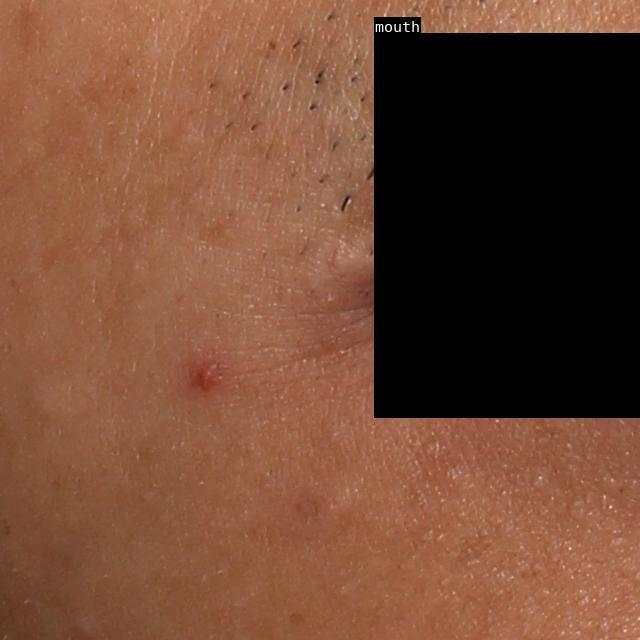comedo: (26, 382, 69, 423), (73, 615, 94, 637)
papule: (186, 342, 233, 400)
